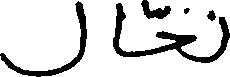X: (0, 0, 85, 76), (156, 1, 194, 65), (217, 12, 229, 63), (114, 0, 121, 60)
